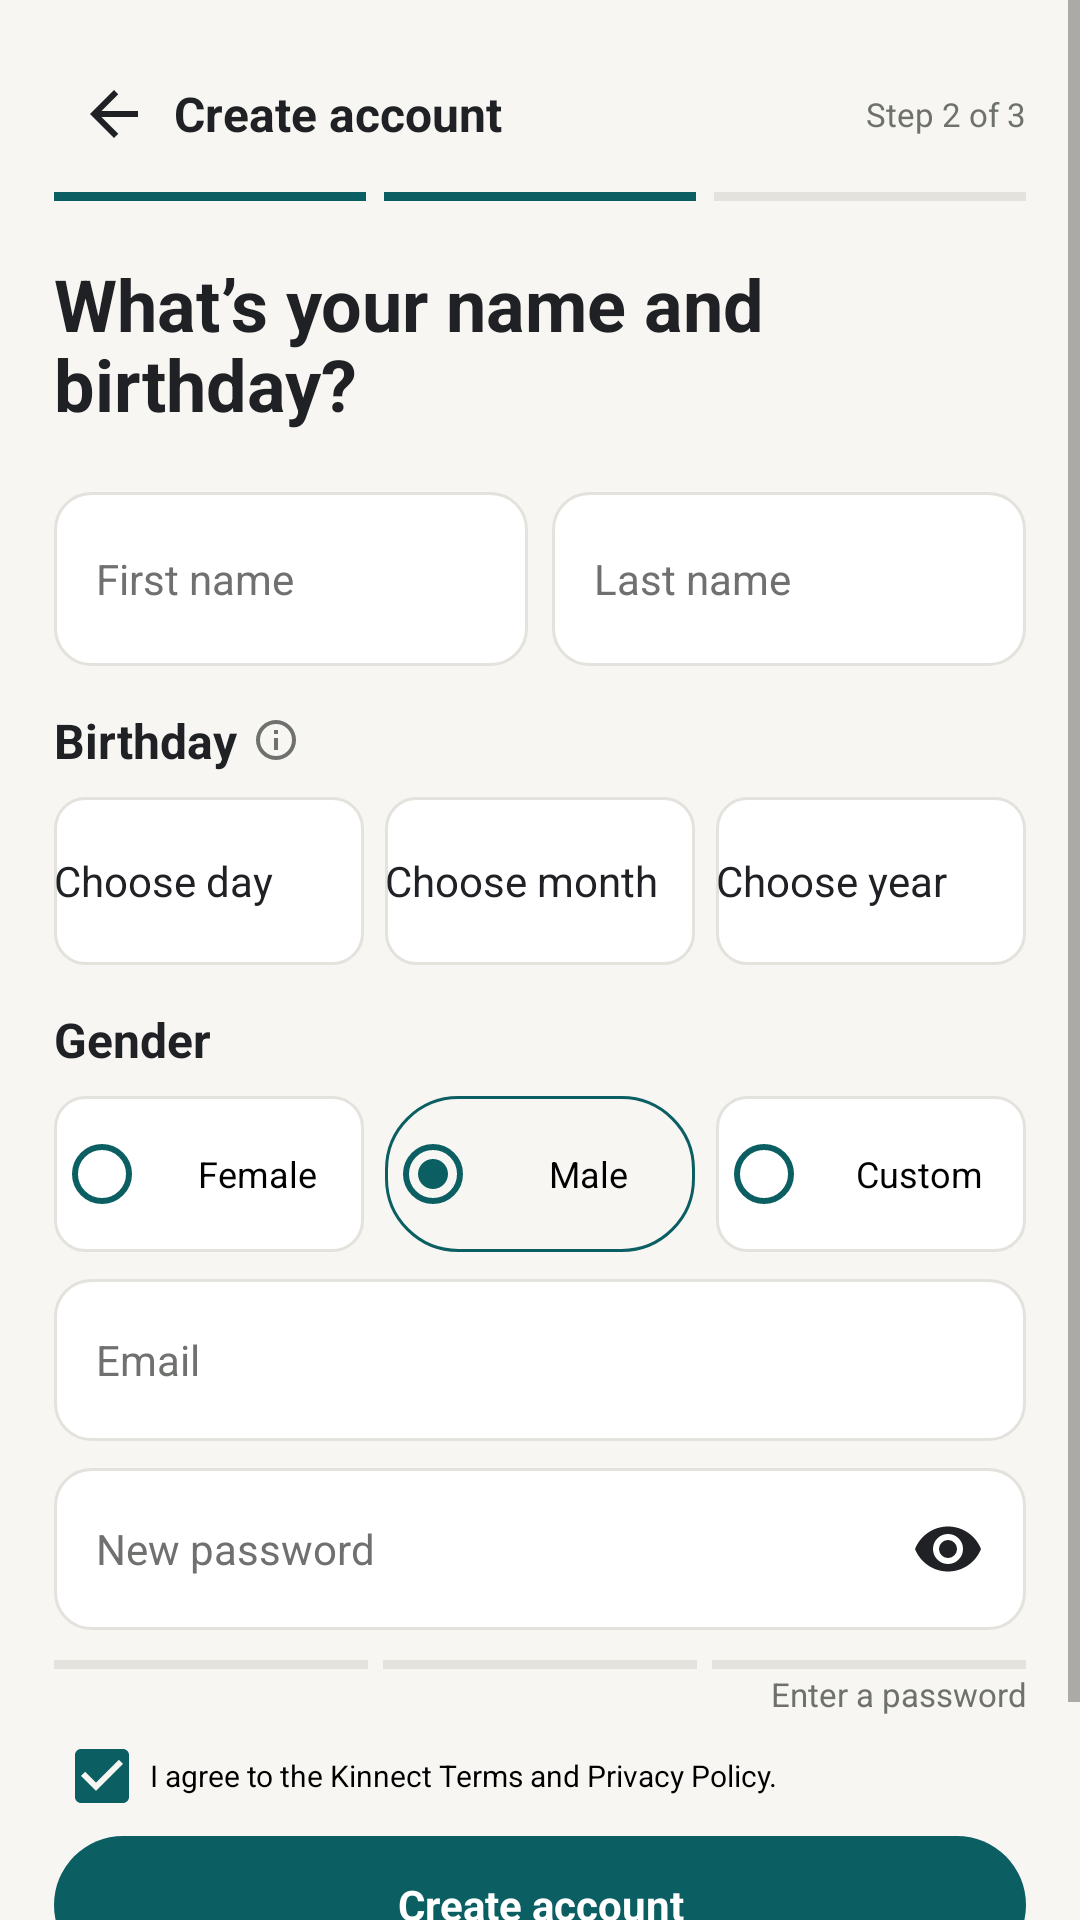

Icon click points for this 1080 x 1920 phone screenshot, format (x,y):
Back: (114,114)
